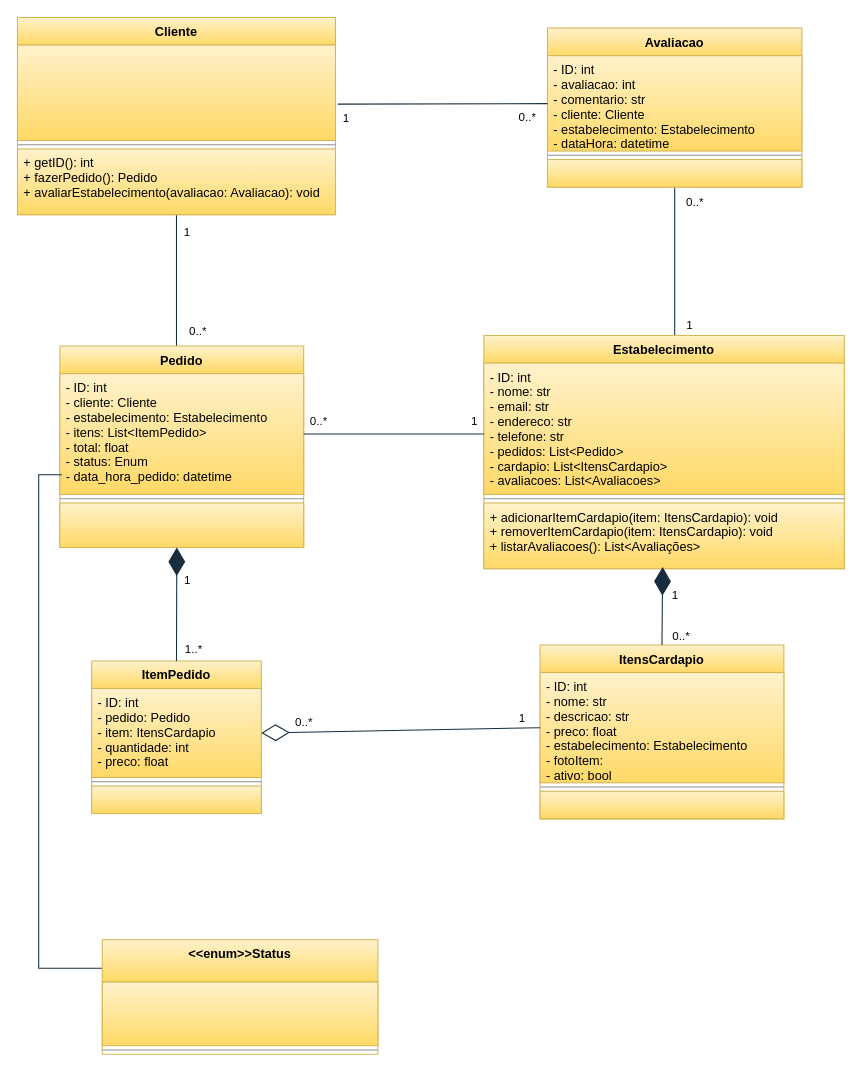
This 862x1072 diagram has some shape labels left out. The centre of each missing label's shape, as x and y in pixels:
+ adicionarAvaliacao(): void: the point at 674,172
+ atualizarPreco(novoPreco: float): void: the point at 661,804
+ calcularSubtotal(): float: the point at 176,799
+ calcularTotal(): float + atualizarStatus(status: Enum): void: the point at 181,524
- EM ANALISE: int - EM PRODUCAO: int - AGUARDANDO RETIRADA: int: the point at 239,1013
- ID: int - nome: str - endereco: str - telefone: str - email: str - senha: str: the point at 175,92
